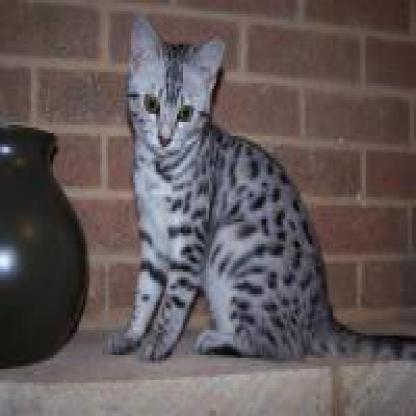cat: (104, 14, 414, 369)
